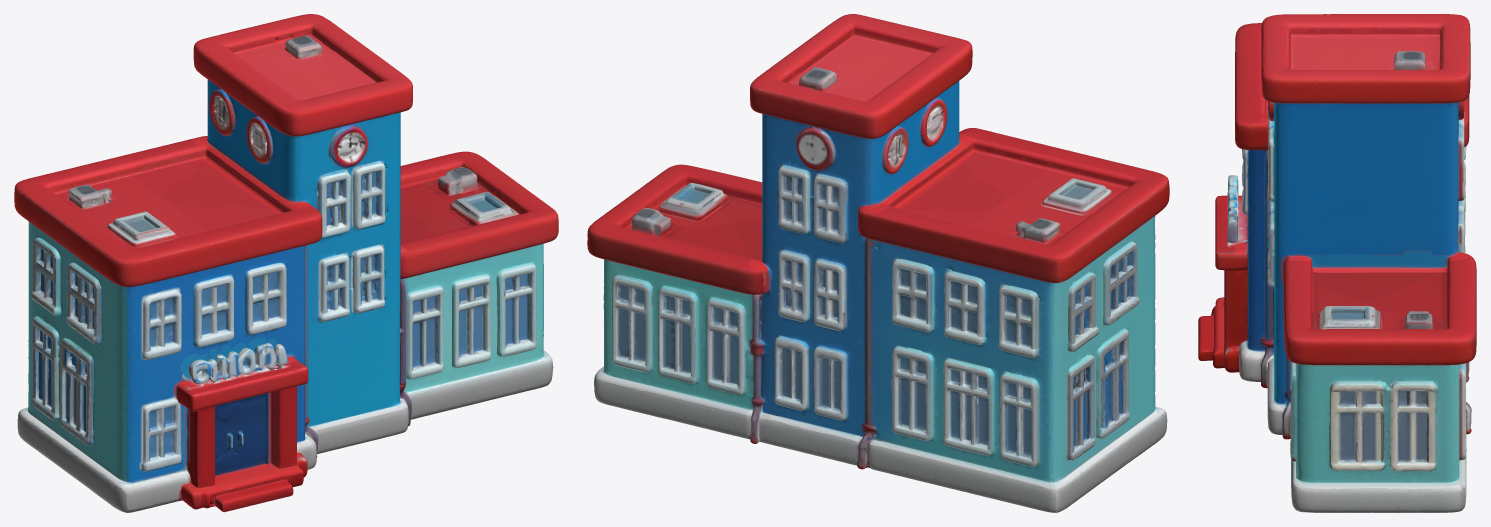
Rendered from School.glb.
The picture shows the model from 3 angles, left to right: view 1: azimuth 30°, elevation 25°; view 2: azimuth 150°, elevation 25°; view 3: azimuth 270°, elevation 25°; orthographic projection. The views are drawn at different scales.
Visible parts, largest first — view 1: geometry_0; view 2: geometry_0; view 3: geometry_0.
Part boxes in pixels (left/top/right/bottom): geometry_0: left=14, top=14, right=558, bottom=512; geometry_0: left=587, top=14, right=1169, bottom=512; geometry_0: left=1198, top=14, right=1476, bottom=512.
Bounding box in the file's own units: 0.28 × 0.2017 × 0.1401.
1 material, 1 textured.
